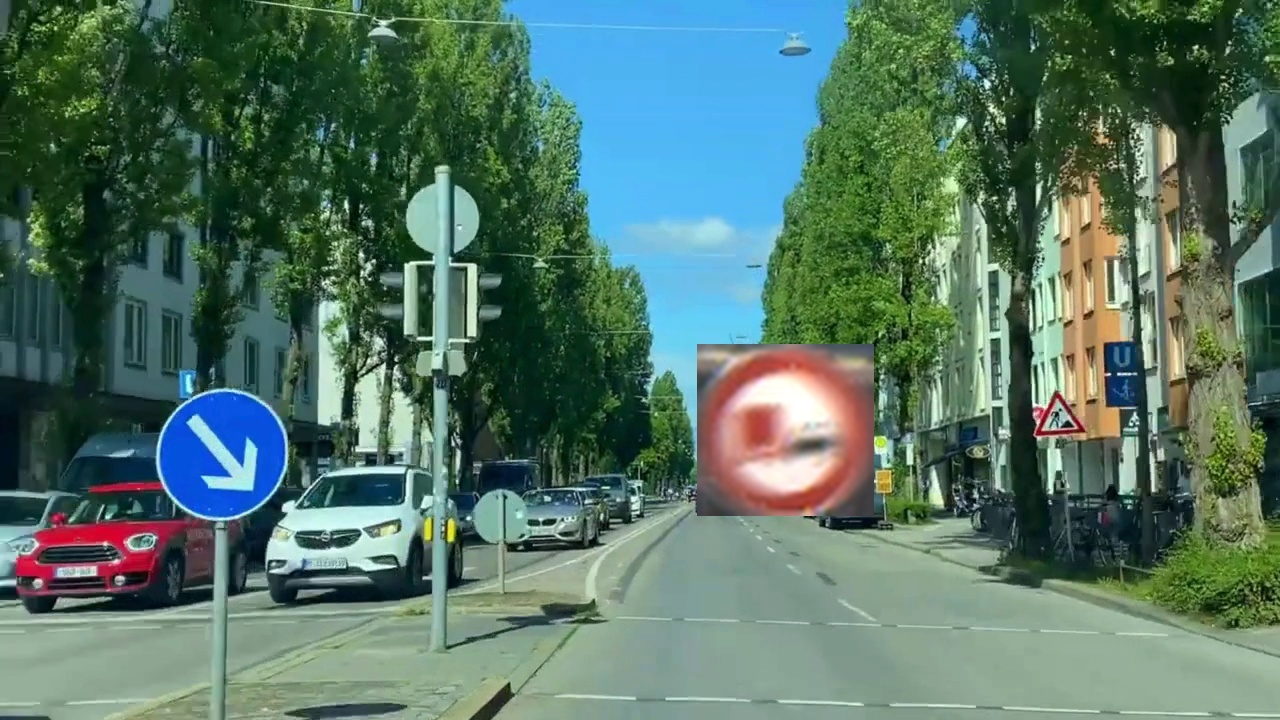No pass >3.5t: (697, 344, 874, 516)
